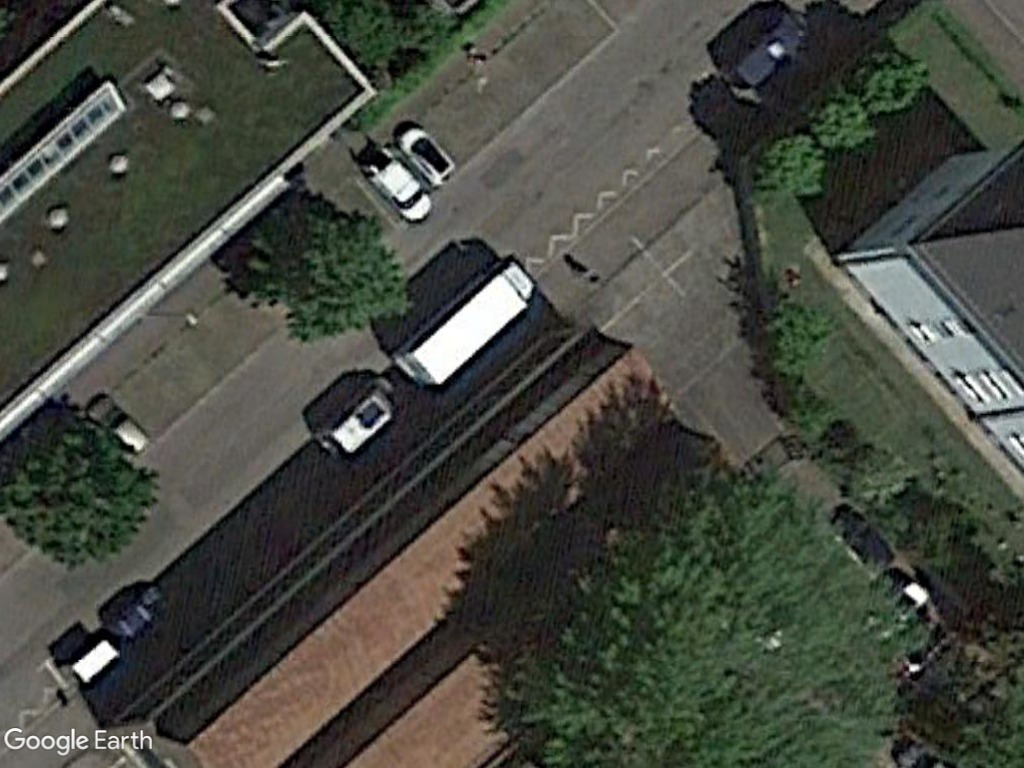other: (360, 147, 434, 224)
truck: (389, 256, 538, 399)
